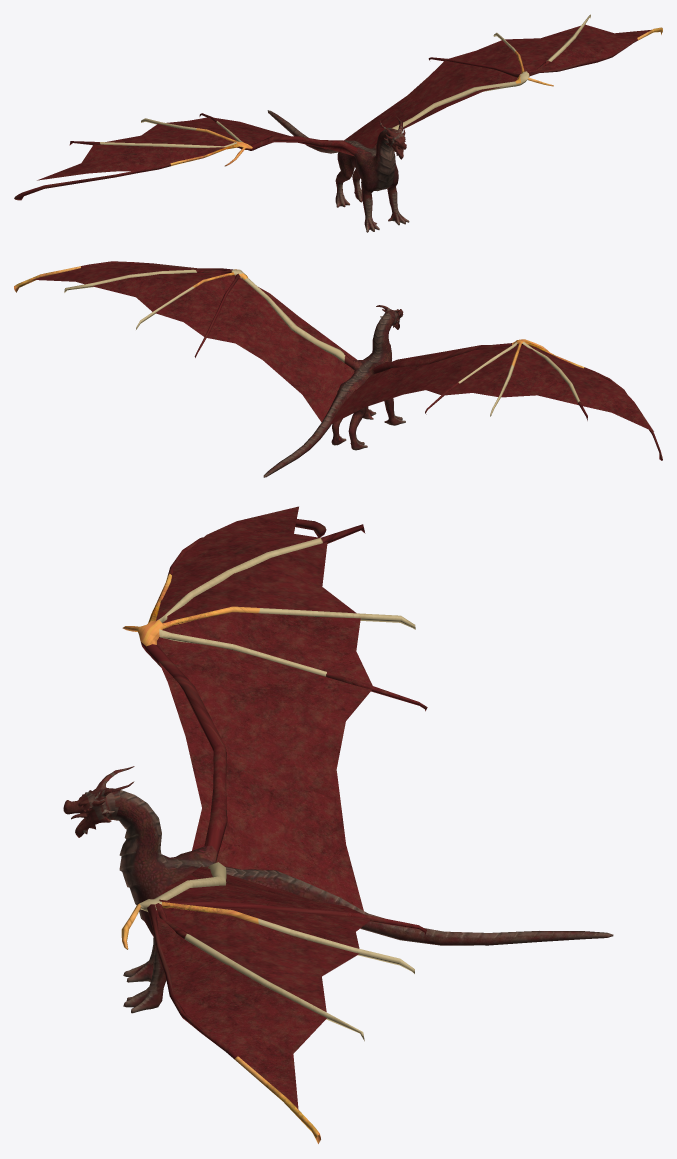
File: dragon2.obj
3 renders of one model, top to bottom at view 1: azimuth 30°, elevation 25°; view 2: azimuth 150°, elevation 25°; view 3: azimuth 270°, elevation 25°, orthographic. The views are drawn at different scales.
Visible parts, largest first — view 1: Plane.003, Cylinder.001, Cylinder.026_Cylinder.044; view 2: Plane.003, Cylinder.001, Cylinder.026_Cylinder.044; view 3: Cylinder.001, Plane.003, Cylinder.026_Cylinder.044.
Part boxes in pixels (box(x1,y1,x2,y2)): Plane.003: box(344, 14, 662, 148); Cylinder.001: box(14, 113, 360, 200); Cylinder.026_Cylinder.044: box(267, 110, 409, 232); Plane.003: box(14, 261, 357, 422); Cylinder.001: box(330, 339, 662, 460); Cylinder.026_Cylinder.044: box(263, 305, 405, 477); Cylinder.001: box(122, 506, 427, 910); Plane.003: box(121, 862, 426, 1143); Cylinder.026_Cylinder.044: box(63, 766, 613, 1013).
Size of the model in its own units: 112 by 19.66 by 41.31.
